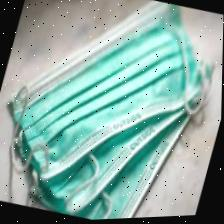mask: (17, 25, 202, 214), (12, 2, 204, 182), (32, 47, 201, 220)
